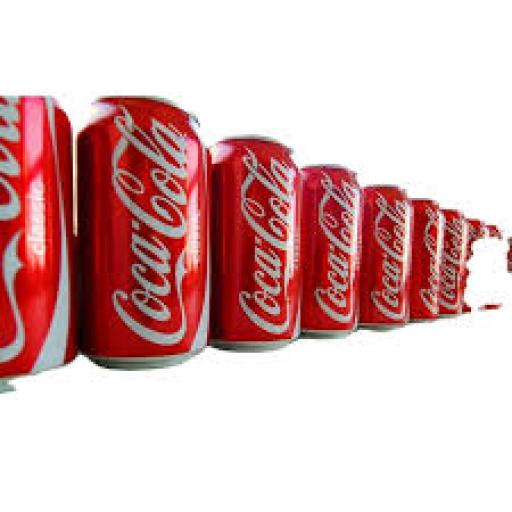Coca: (76, 80, 213, 388), (0, 85, 79, 384), (210, 124, 302, 367), (300, 162, 364, 342), (358, 175, 413, 332), (412, 193, 442, 326), (444, 210, 466, 319)
